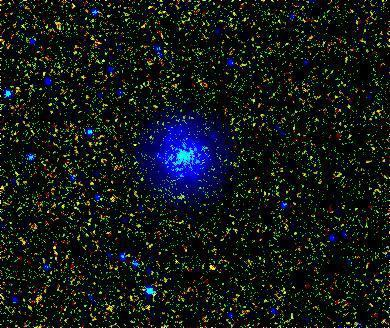star: (166, 183, 196, 213)
